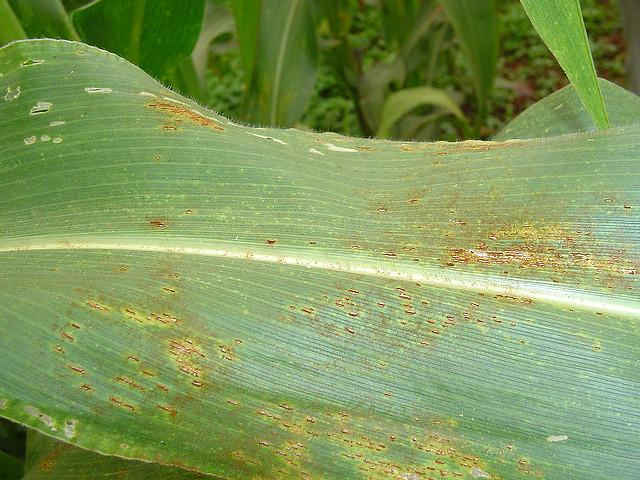Corn rust leaf: (11, 32, 639, 480)
